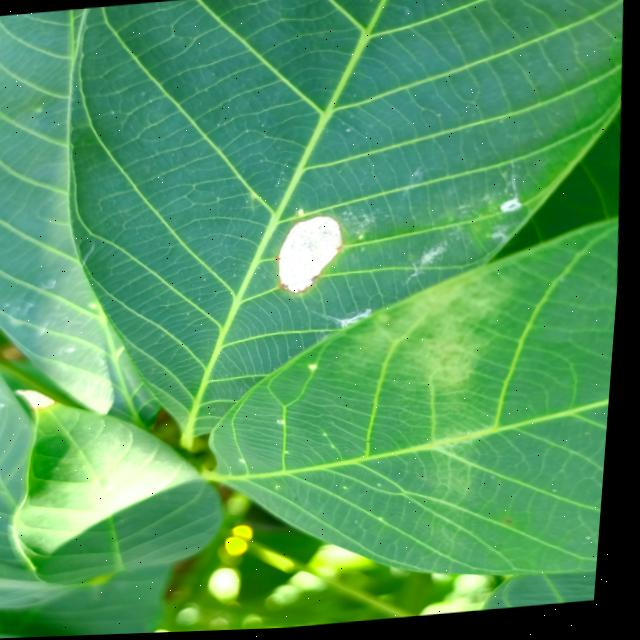Leaf-Blight: (278, 217, 350, 297), (21, 387, 64, 413)
